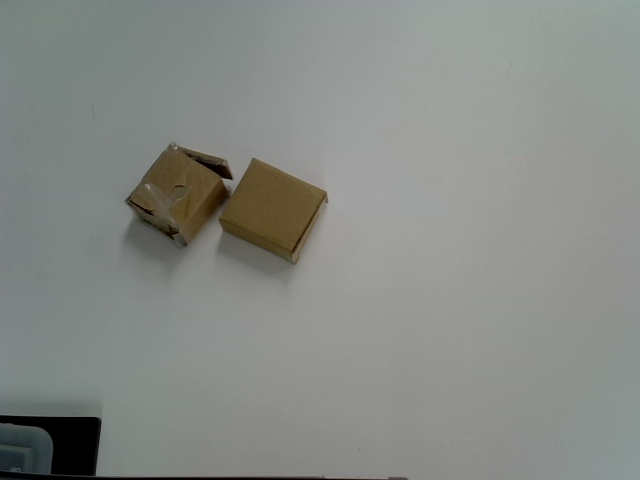defect: (125, 142, 235, 248)
normal: (219, 157, 329, 265)
